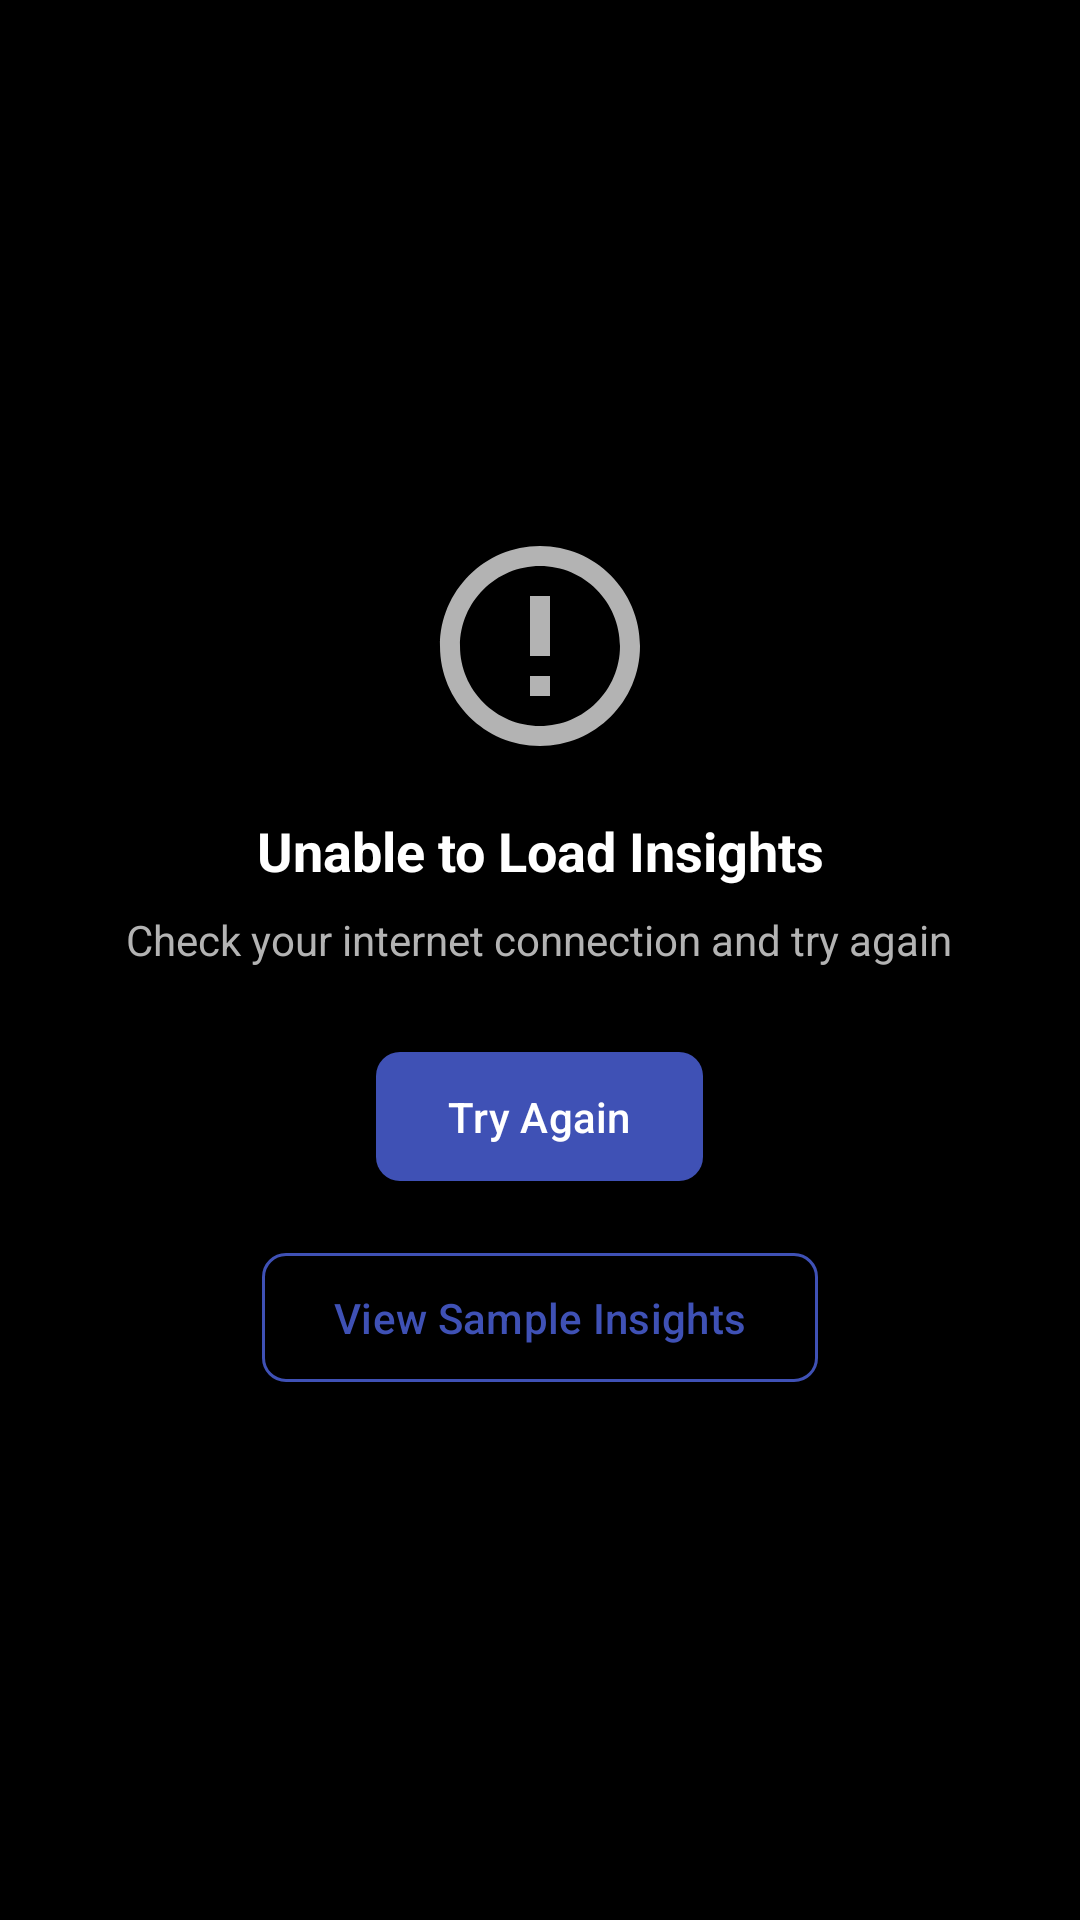

Where to tap for icons on this 1080 × 1920 app screen, as (x,y):
error: (540,646)
